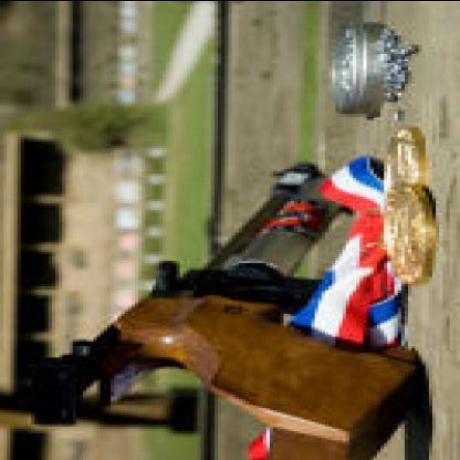weapon: (43, 134, 424, 454)
